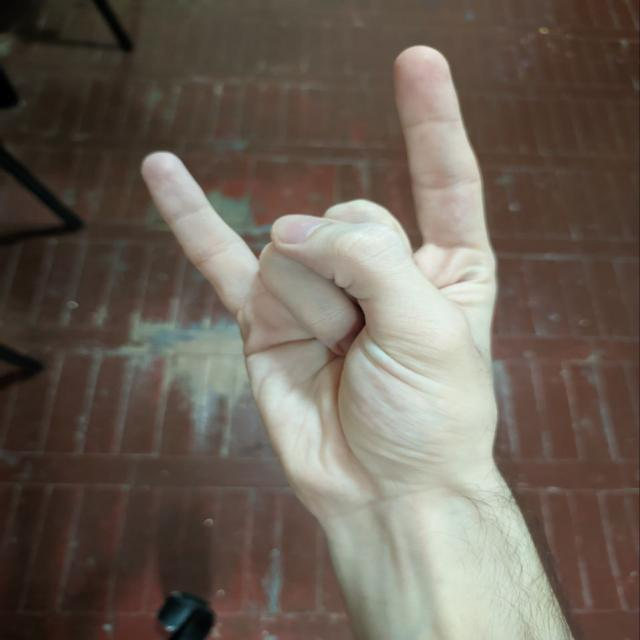y: (128, 37, 566, 465)
